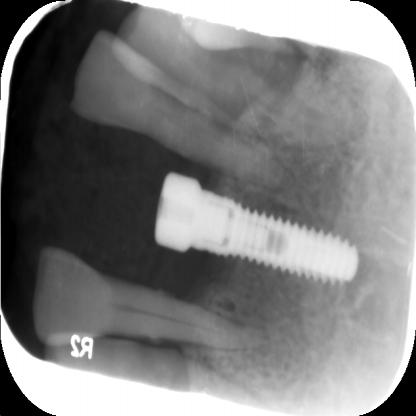Bego: (155, 162, 361, 298)
